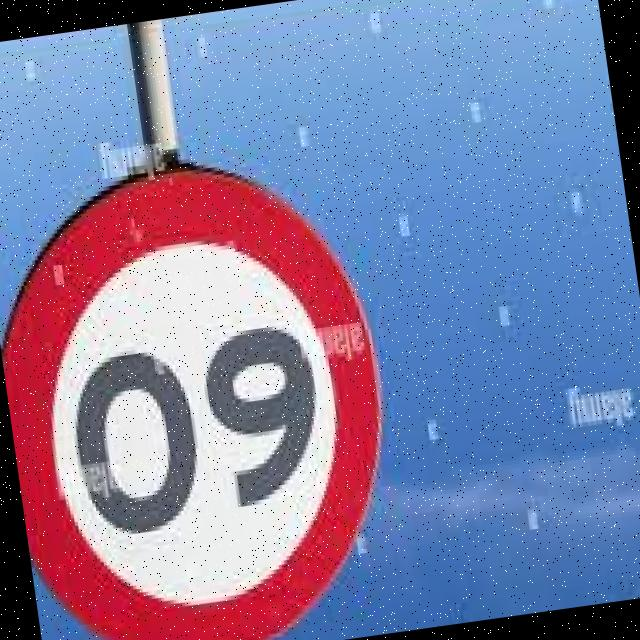speed_limit_60: (0, 143, 421, 640)
